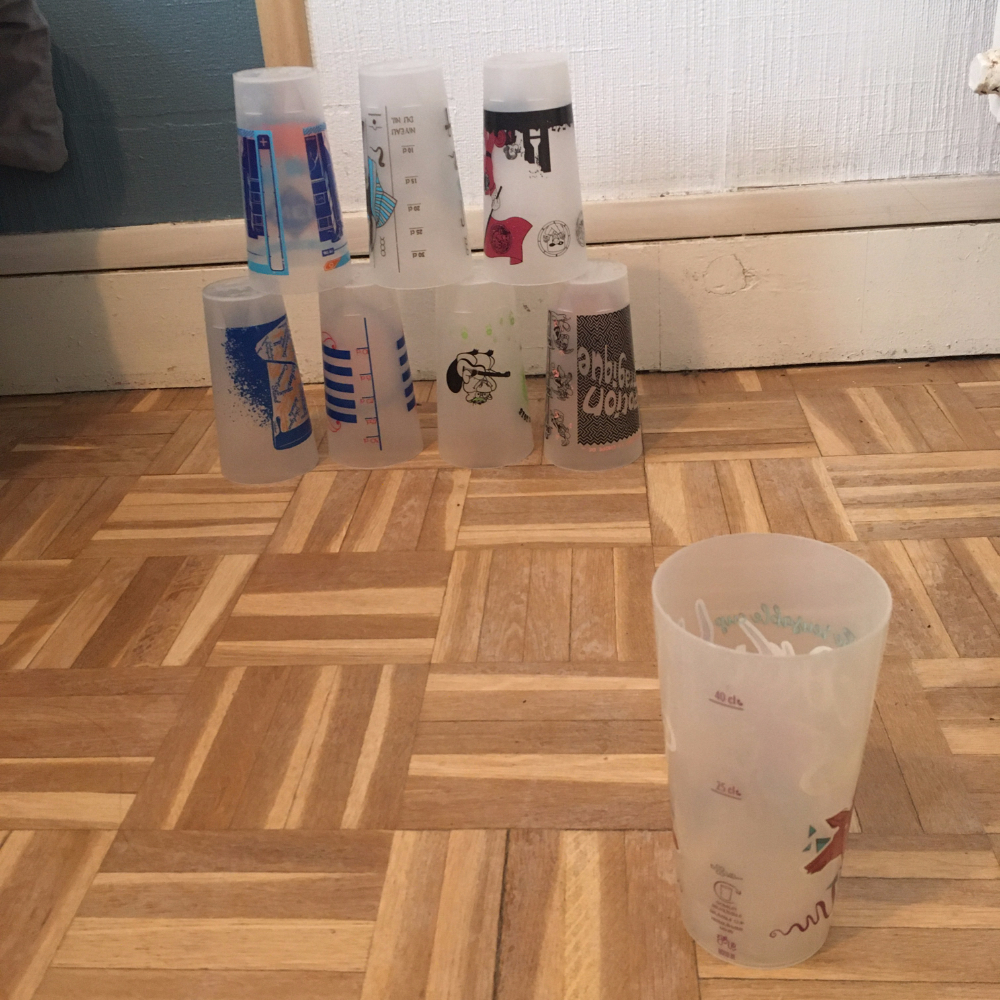ecocup: (652, 531, 892, 967), (232, 66, 354, 293), (358, 58, 472, 290), (481, 52, 589, 287), (203, 275, 319, 483), (543, 260, 642, 469), (323, 263, 423, 468), (438, 258, 533, 468)
